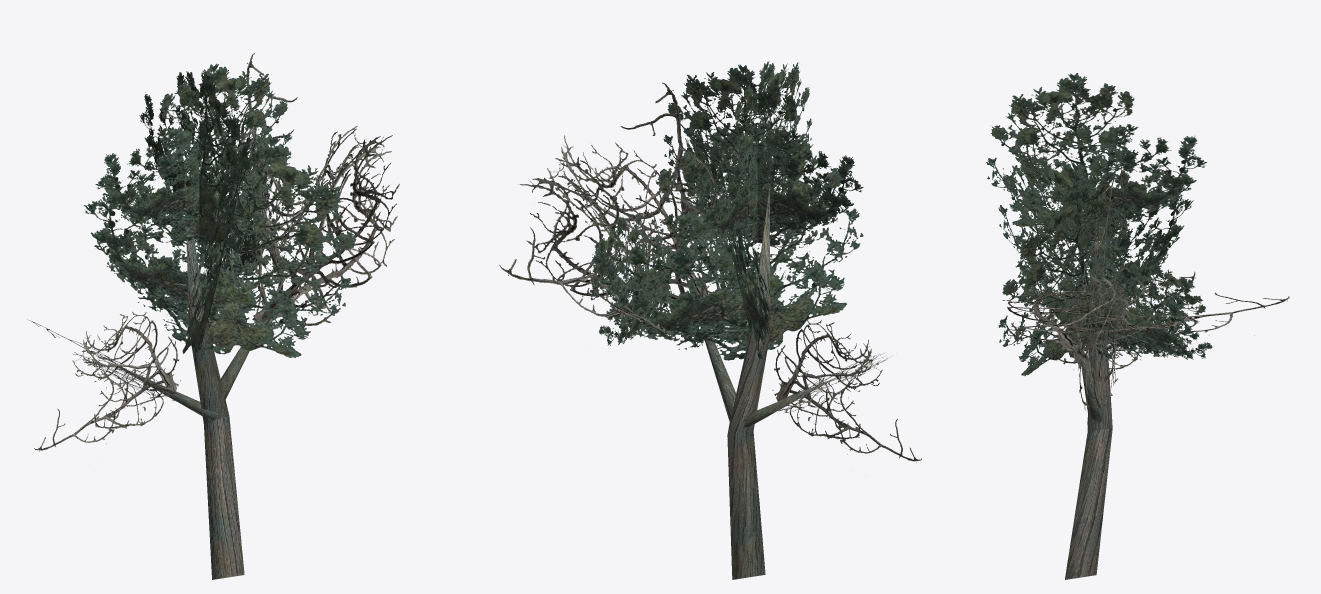
File: ever_torreypinetree_a3_l1.fbx
3 views of the same model, side by side, from view 1: azimuth 30°, elevation 25°; view 2: azimuth 150°, elevation 25°; view 3: azimuth 270°, elevation 25° (orthographic). The views are drawn at different scales.
Visible parts, largest first — view 1: mesh_node; view 2: mesh_node; view 3: mesh_node.
Part boxes in pixels (x1,y1,x2,y2): mesh_node: [27, 53, 399, 579]; mesh_node: [499, 61, 921, 579]; mesh_node: [986, 73, 1289, 579].
Size of the model in its own units: 2.67 by 2.99 by 1.88.
